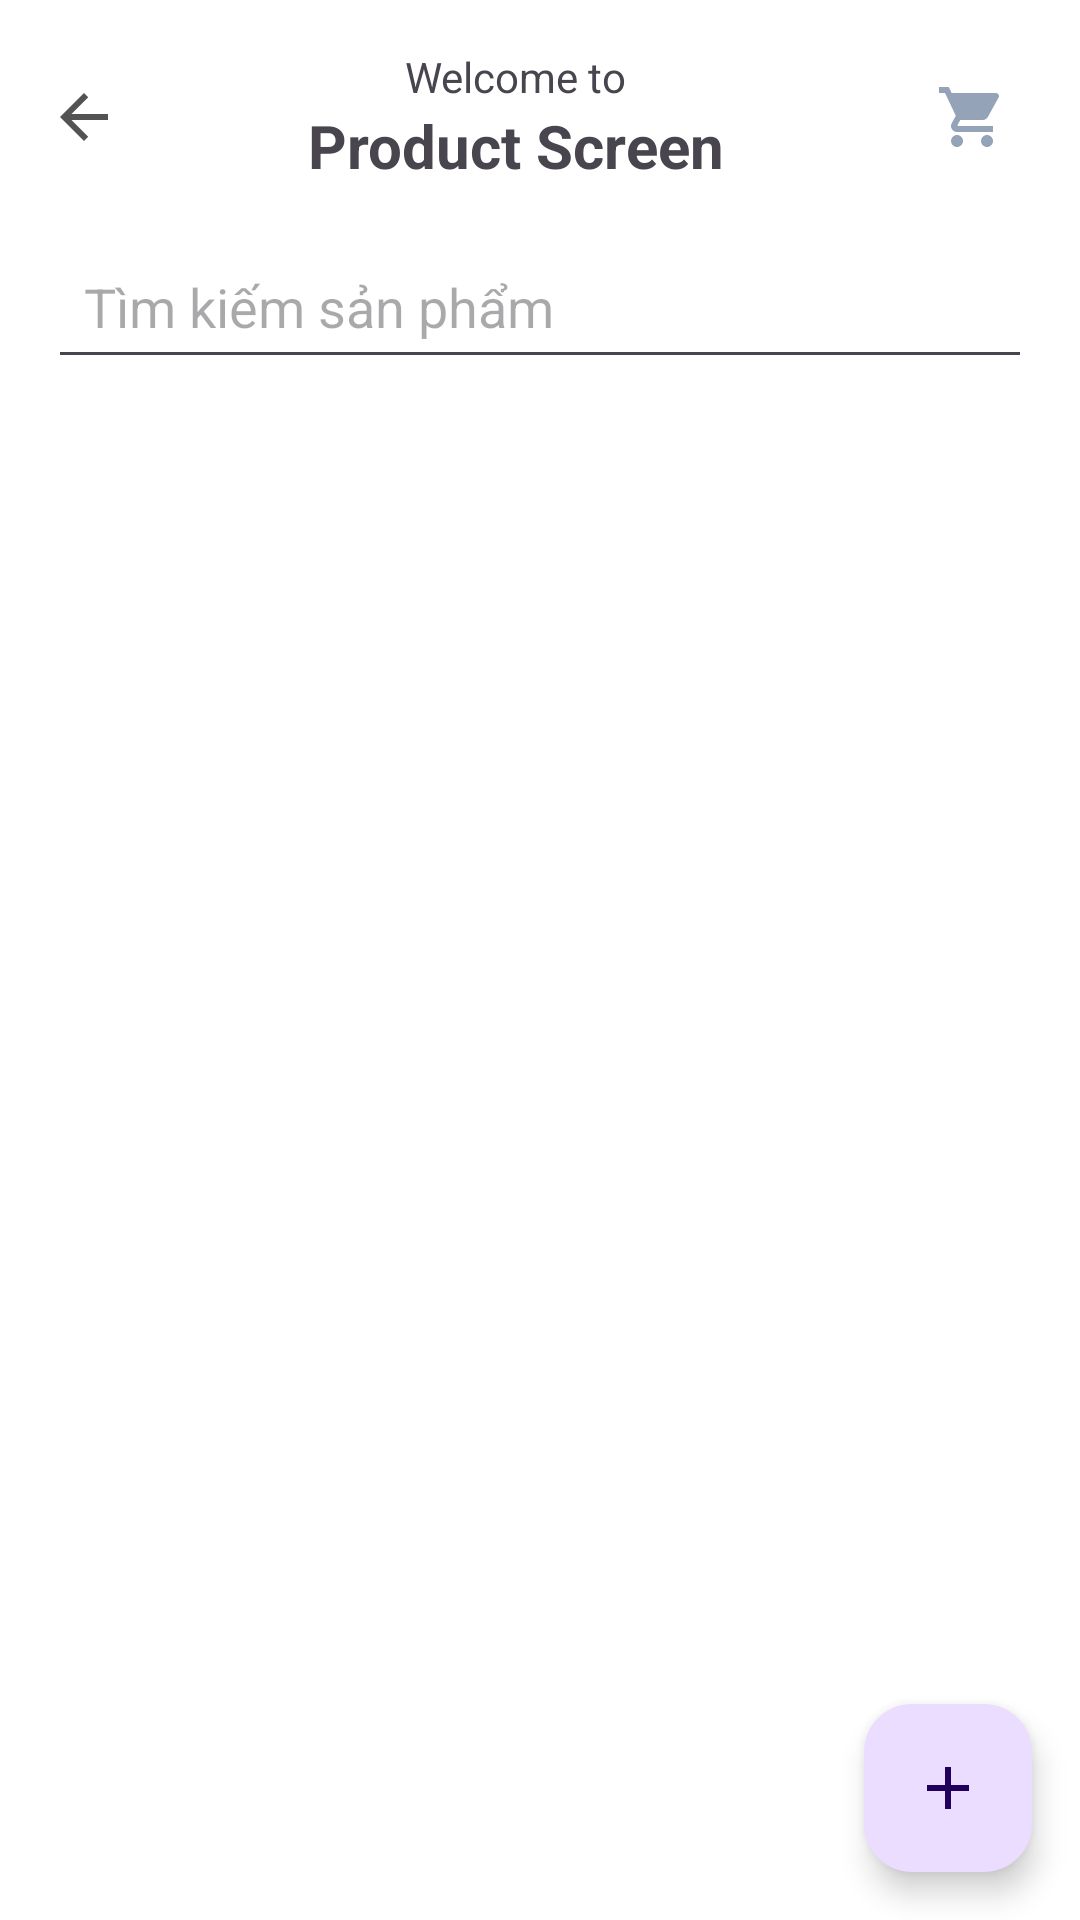

Named icons in this screenshot (1080*1920) and their bounding boxes, region(x1, y1, x2, y2):
add: region(864, 1704, 1032, 1872)
back: region(60, 93, 108, 141)
cart: region(939, 87, 999, 147)
